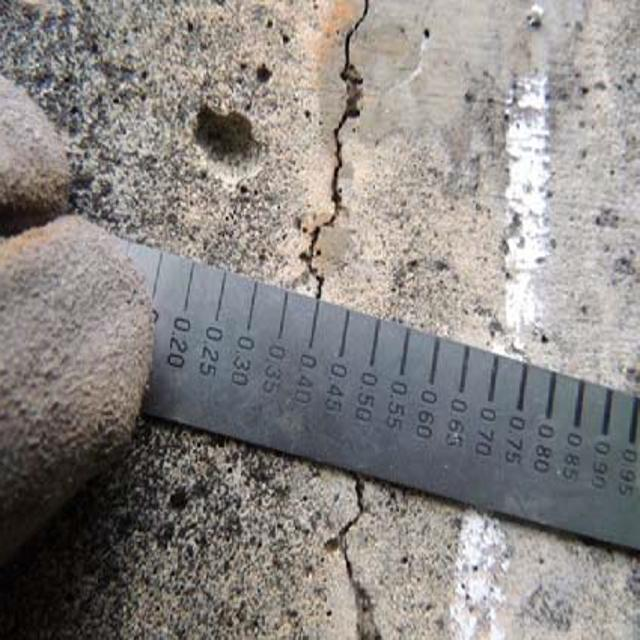crack: (297, 2, 399, 304), (312, 478, 400, 640)
